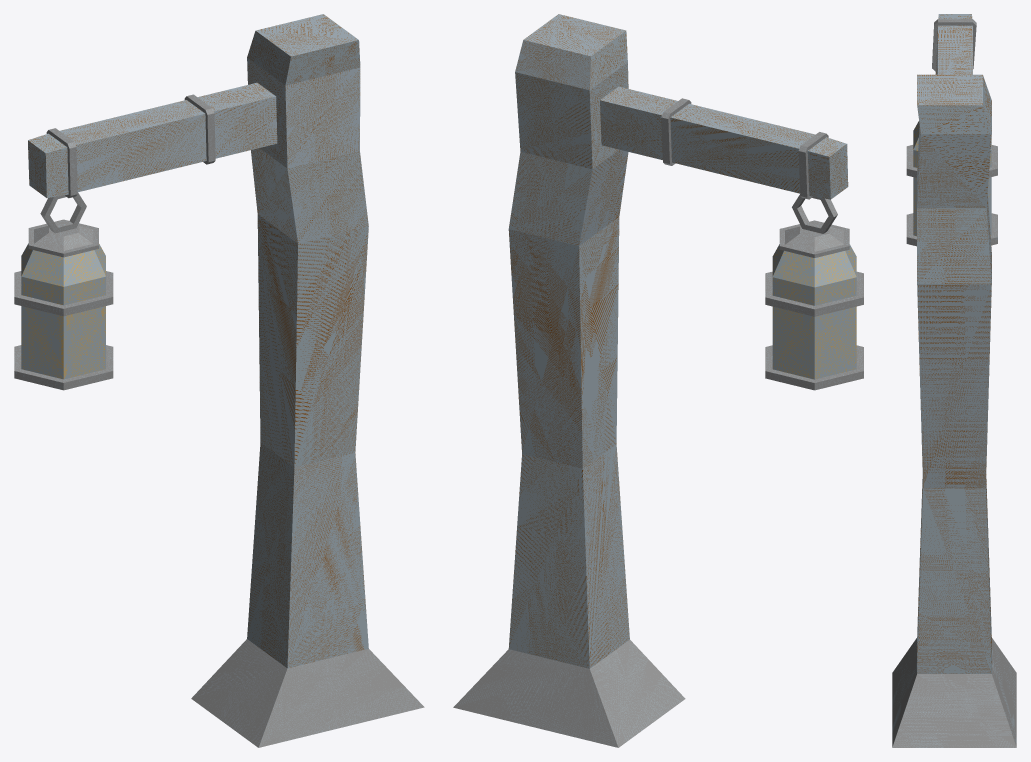
The model's file is Lamp_Post_01.fbx.
3 views of the same model, side by side, from view 1: azimuth 30°, elevation 25°; view 2: azimuth 150°, elevation 25°; view 3: azimuth 270°, elevation 25° (orthographic). The views are drawn at different scales.
Parts seen in each view (by area): view 1: Model; view 2: Model; view 3: Model.
Boxes of the visible parts, x1=… form: Model: x1=14, y1=14, x2=424, y2=747; Model: x1=453, y1=14, x2=863, y2=747; Model: x1=892, y1=14, x2=1016, y2=747.
Size of the model in its own units: 267 by 452 by 82.5.
